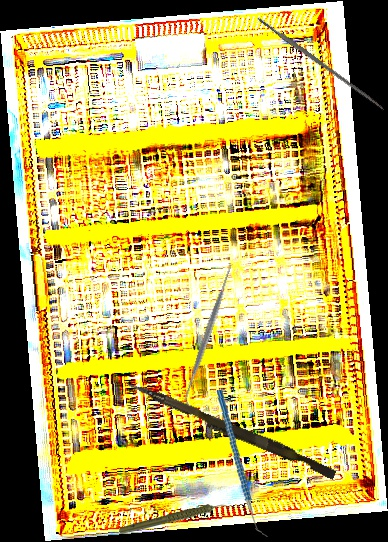Chopper: (207, 390, 278, 537)
Handpiece: (119, 503, 230, 535)
Pusher: (123, 380, 339, 480)
Scalpel Handle: (255, 14, 386, 112)
Spatula Surgical: (176, 261, 240, 407)
